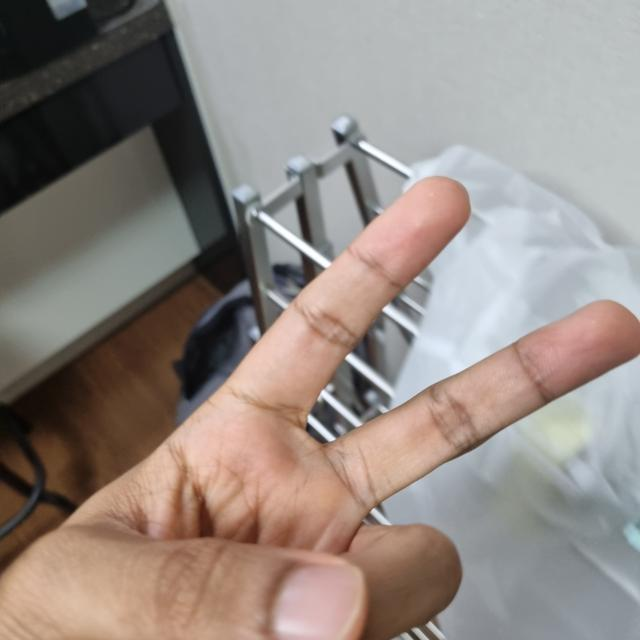Scissors: (11, 178, 638, 639)
